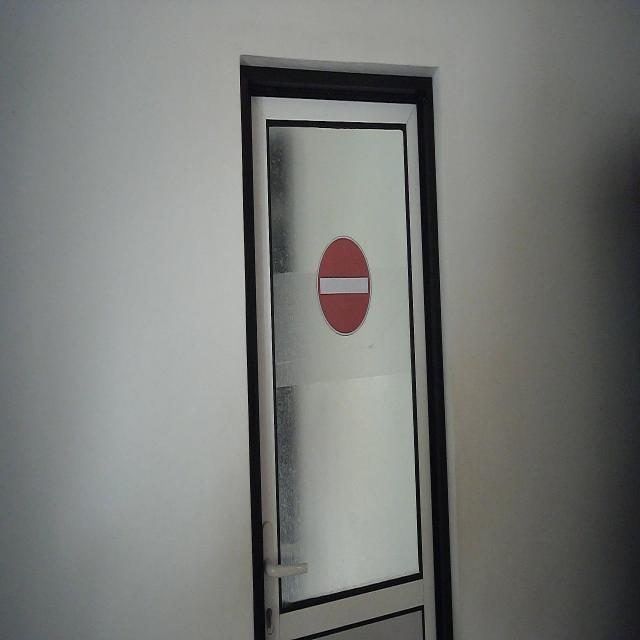no_entry: (316, 234, 374, 337)
